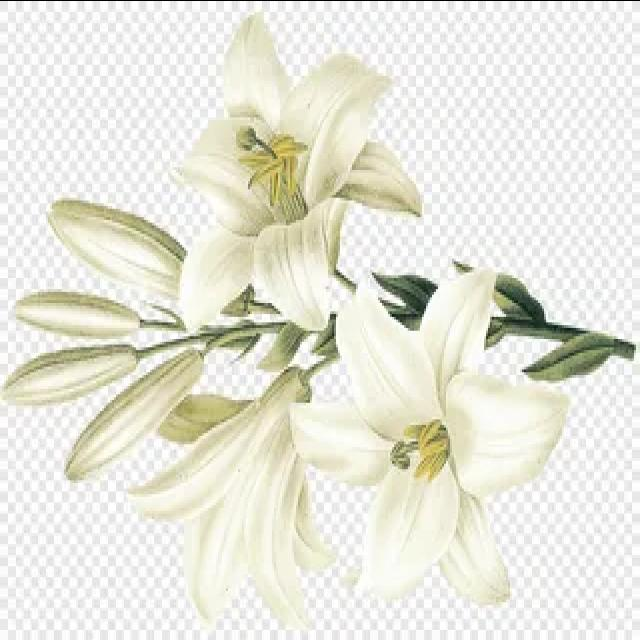lily: (287, 247, 573, 612)
